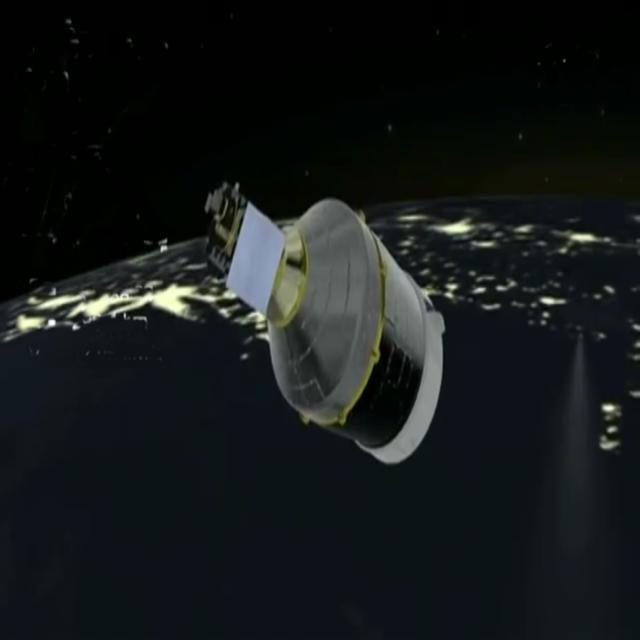medium_debris: (170, 50, 466, 503)
